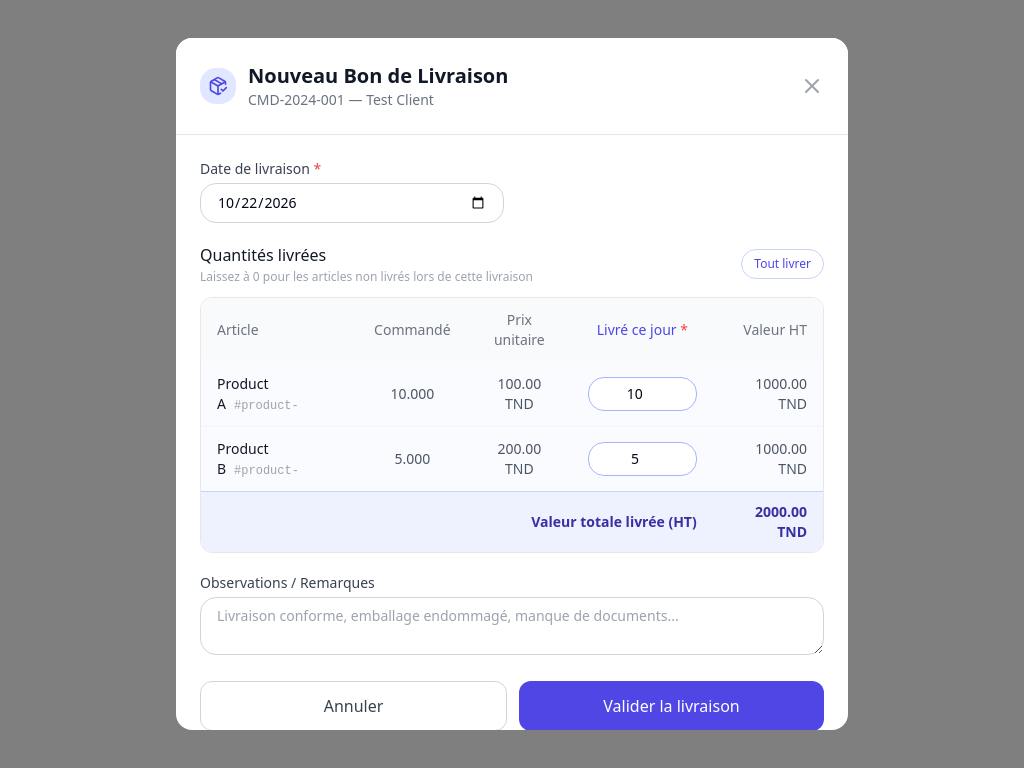
Test: DeliveryNoteFromSalesOrderModal › should show warning when quantity exceeds ordered
Replace the text in the number field in the row of "Product A" with "15" at (642, 394), box [588,377,697,411]
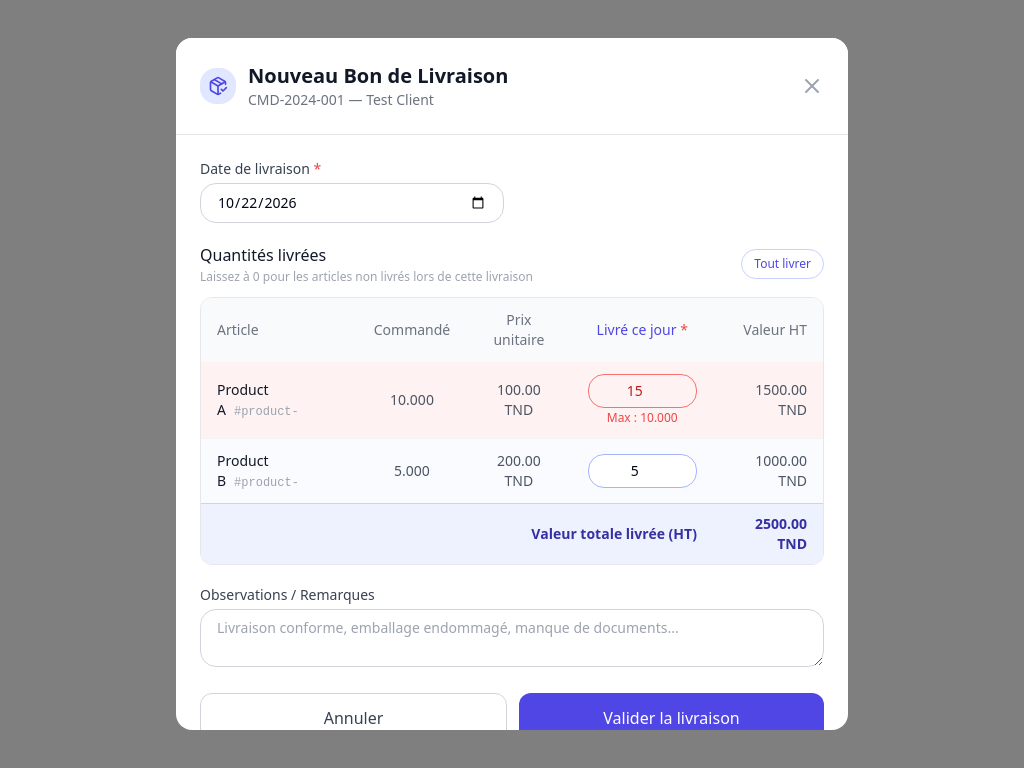
Result: the text "Max : 10.000" is shown at [607,409,678,426]
